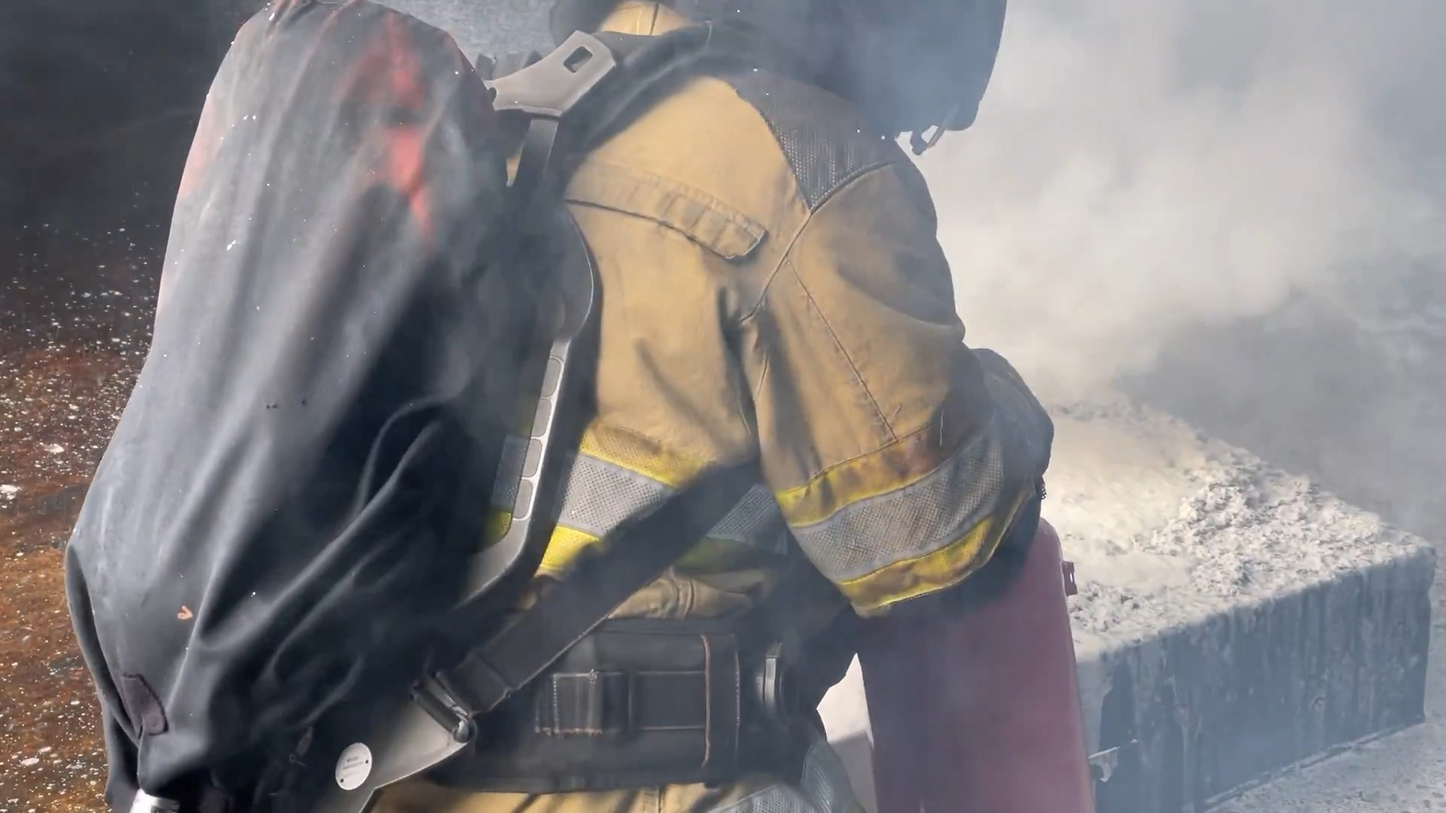smoke: (987, 0, 1446, 486)
